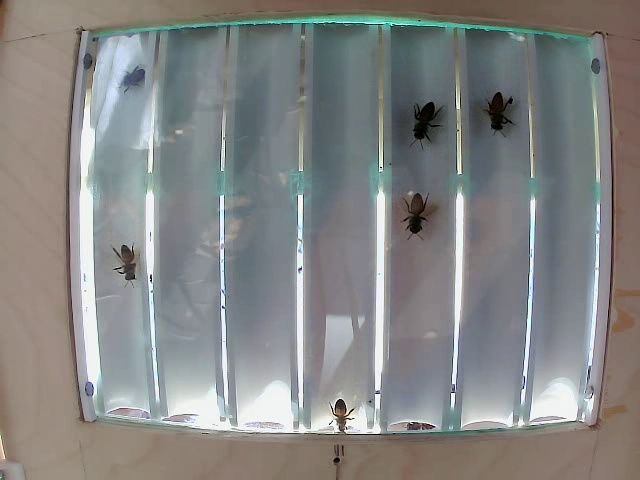bee: (108, 237, 157, 283), (391, 189, 438, 233), (407, 96, 446, 149), (482, 86, 514, 130)
